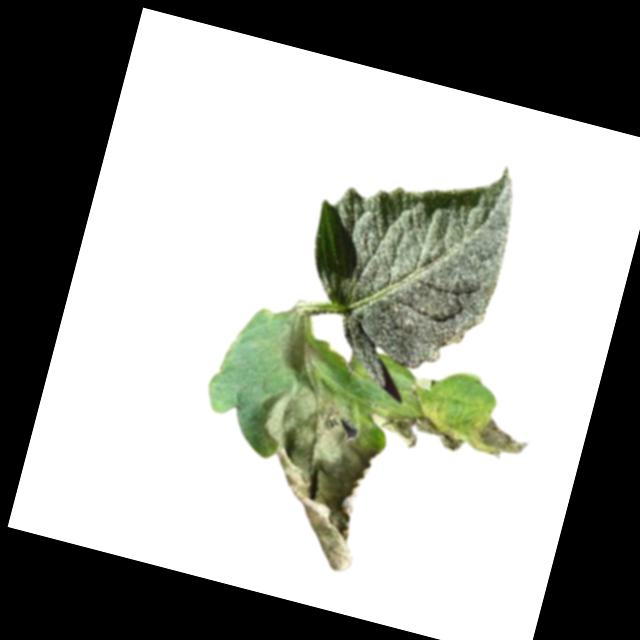Late_blight: (228, 373, 395, 576), (372, 397, 469, 460), (274, 313, 334, 385), (462, 407, 533, 465), (402, 371, 439, 409)
healthy: (279, 121, 527, 408)
